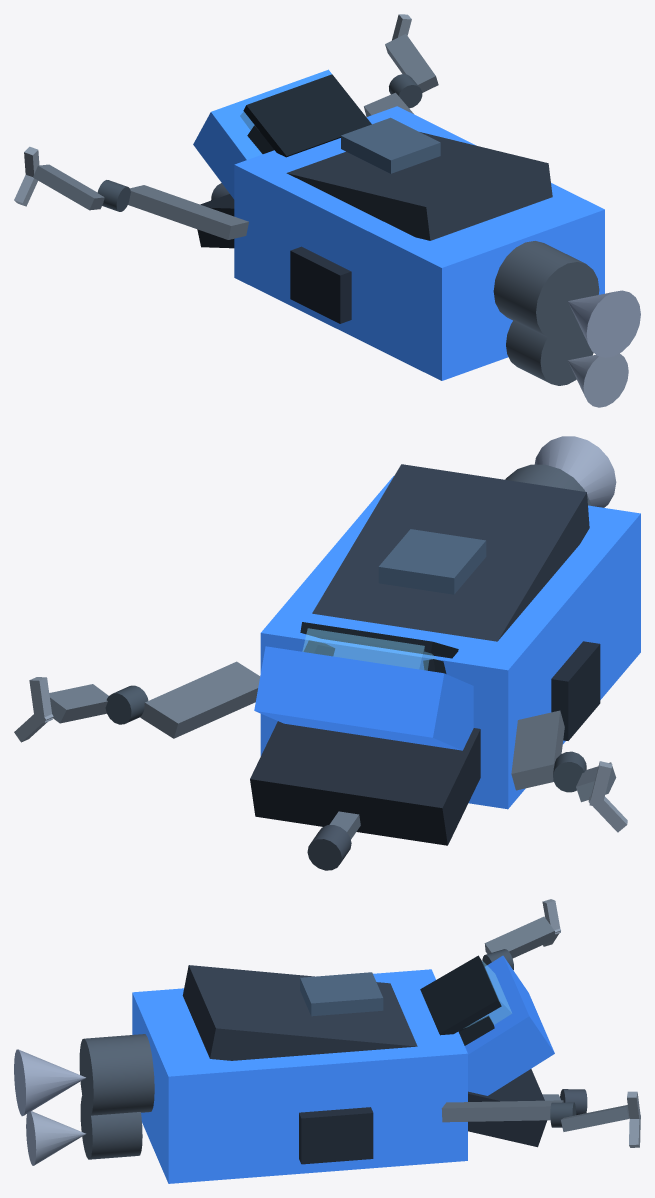
Rendered from scavenger-pod.glb.
3 views of the same model, one above another, from view 1: azimuth 30°, elevation 25°; view 2: azimuth 150°, elevation 25°; view 3: azimuth 270°, elevation 25° (orthographic). The views are drawn at different scales.
Parts seen in each view (by area): view 1: pod-hull-core, pod-hull-shoulder, pod-engine-body-upper, pod-cockpit-frame-top, pod-nose-upper, pod-sensor-array, pod-side-bay-left, pod-thruster-upper, pod-engine-body-lower, pod-arm-left-primary, pod-thruster-lower, pod-arm-right-fore (+5 smaller); view 2: pod-hull-core, pod-hull-shoulder, pod-nose-lower, pod-nose-upper, pod-sensor-array, pod-arm-right-primary, pod-side-bay-left, pod-arm-left-primary, pod-thruster-upper, pod-cockpit-glass, pod-cockpit-frame-top, pod-arm-right-fore (+8 smaller); view 3: pod-hull-core, pod-hull-shoulder, pod-nose-upper, pod-engine-body-upper, pod-side-bay-right, pod-cockpit-frame-top, pod-sensor-array, pod-engine-body-lower, pod-nose-lower, pod-thruster-upper, pod-arm-right-primary, pod-thruster-lower (+6 smaller).
Part boxes in pixels (left/top/right/bottom): pod-hull-core: left=234, top=106, right=604, bottom=380; pod-hull-shoulder: left=286, top=132, right=552, bottom=240; pod-engine-body-upper: left=493, top=241, right=599, bottom=340; pod-cockpit-frame-top: left=243, top=74, right=371, bottom=157; pod-nose-upper: left=193, top=69, right=331, bottom=199; pod-sensor-array: left=341, top=117, right=440, bottom=173; pod-side-bay-left: left=290, top=246, right=351, bottom=323; pod-thruster-upper: left=568, top=290, right=640, bottom=357; pod-engine-body-lower: left=506, top=318, right=593, bottom=385; pod-arm-left-primary: left=128, top=185, right=248, bottom=239; pod-thruster-lower: left=568, top=353, right=628, bottom=407; pod-arm-right-fore: left=385, top=34, right=438, bottom=92; pod-hull-core: left=260, top=476, right=640, bottom=809; pod-hull-shoulder: left=312, top=464, right=589, bottom=641; pod-nose-lower: left=250, top=721, right=480, bottom=845; pod-nose-upper: left=254, top=646, right=473, bottom=750; pod-sensor-array: left=378, top=529, right=486, bottom=594; pod-arm-right-primary: left=140, top=661, right=260, bottom=738; pod-side-bay-left: left=551, top=641, right=600, bottom=740; pod-arm-left-primary: left=511, top=710, right=564, bottom=790; pod-thruster-upper: left=534, top=436, right=616, bottom=507; pod-cockpit-glass: left=302, top=628, right=437, bottom=670; pod-cockpit-frame-top: left=300, top=622, right=458, bottom=658; pod-arm-right-fore: left=49, top=684, right=108, bottom=723; pod-hull-core: left=132, top=969, right=467, bottom=1183; pod-hull-shoulder: left=182, top=965, right=417, bottom=1060; pod-nose-upper: left=465, top=955, right=554, bottom=1095; pod-engine-body-upper: left=79, top=1034, right=154, bottom=1116; pod-side-bay-right: left=299, top=1107, right=373, bottom=1164; pod-cockpit-frame-top: left=420, top=955, right=501, bottom=1035; pod-sensor-array: left=300, top=972, right=383, bottom=1016; pod-engine-body-lower: left=80, top=1093, right=142, bottom=1159; pod-nose-lower: left=468, top=1069, right=547, bottom=1147; pod-thruster-upper: left=14, top=1049, right=85, bottom=1116; pod-arm-right-primary: left=441, top=1100, right=563, bottom=1122; pod-thruster-lower: left=26, top=1111, right=85, bottom=1165.
Size of the model in its own units: 1.76 by 0.6024 by 2.22.
